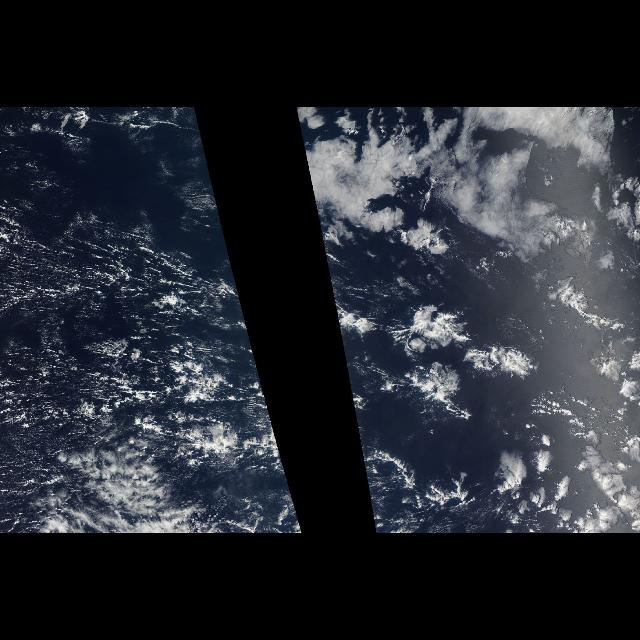Flower: (329, 280, 639, 532), (312, 120, 462, 268)
Gravel: (0, 205, 282, 493)
Sugar: (0, 136, 242, 468)
